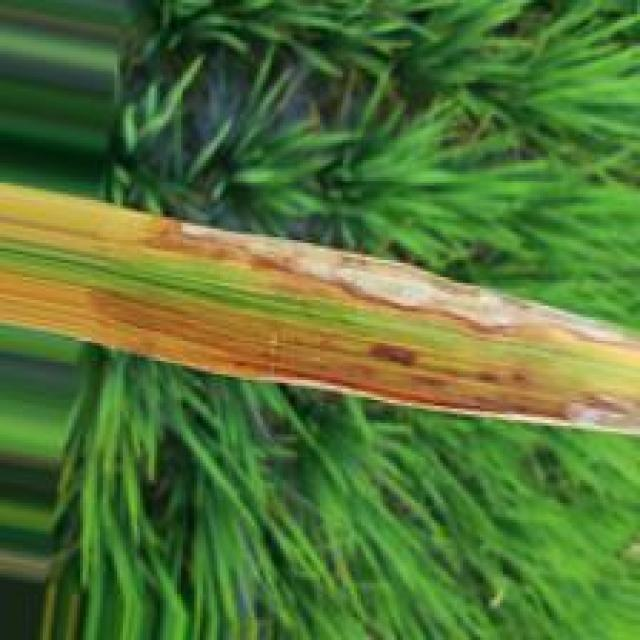Bacterial_Leaf_Blight: (123, 207, 640, 362), (141, 339, 640, 440)
